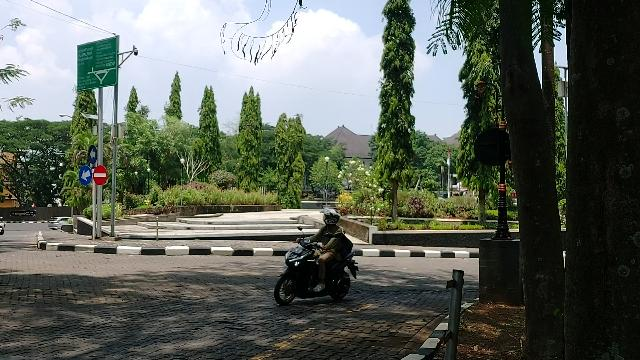motor: (275, 242, 359, 307), (321, 209, 341, 226)
